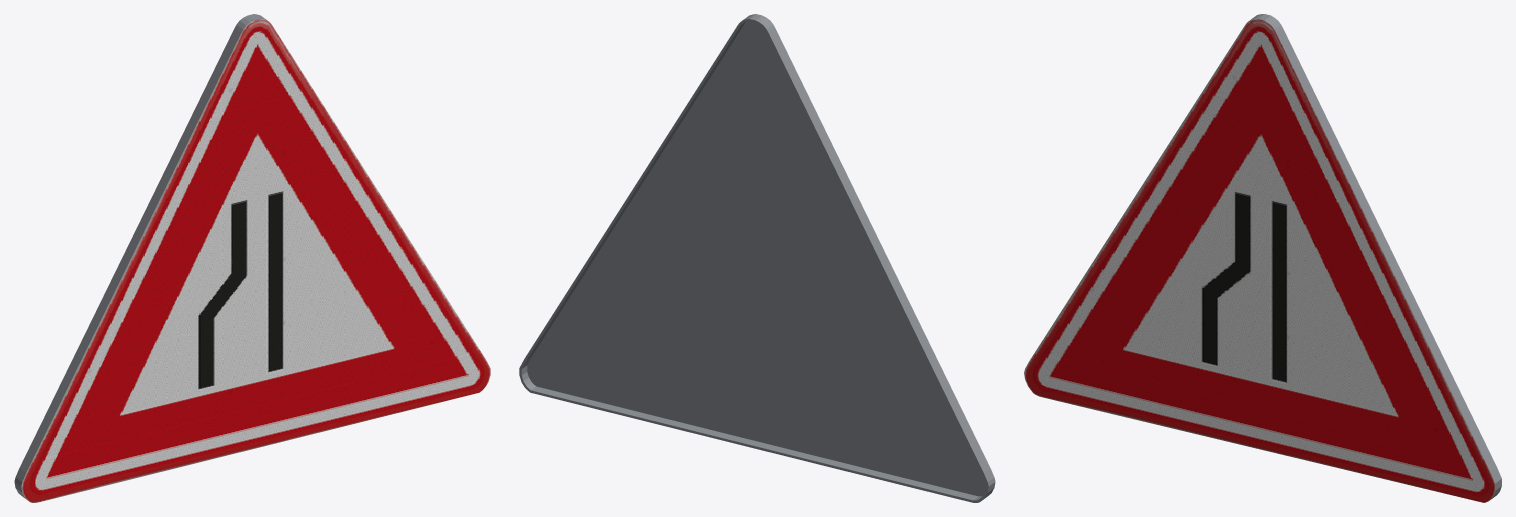
The picture shows the model from 3 angles, left to right: view 1: azimuth 30°, elevation 25°; view 2: azimuth 150°, elevation 25°; view 3: azimuth 330°, elevation 25°; orthographic projection.
Parts seen in each view (by area): view 1: cat_cfe7092be51c4c5e; view 2: cat_cfe7092be51c4c5e; view 3: cat_cfe7092be51c4c5e.
Part boxes in pixels (x1=…): cat_cfe7092be51c4c5e: x1=14, y1=14, x2=490, y2=502; cat_cfe7092be51c4c5e: x1=519, y1=14, x2=995, y2=502; cat_cfe7092be51c4c5e: x1=1024, y1=14, x2=1501, y2=502.
Bounding box in the file's own units: 0.6 × 0.015 × 0.5245.
2 materials, 1 textured.
